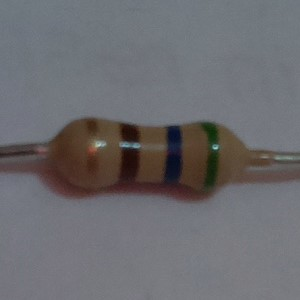blue_band: (163, 124, 185, 185)
brown_band: (117, 120, 143, 184)
gold_band: (82, 116, 102, 193)
green_band: (198, 120, 222, 190)
